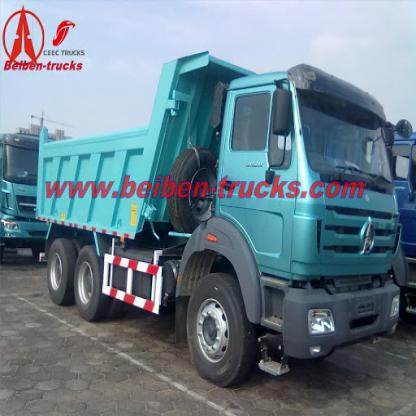normal-truck: (6, 77, 415, 388)
